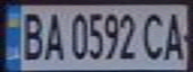0: (66, 9, 87, 61)
2: (118, 9, 142, 61)
5: (84, 9, 106, 61)
9: (103, 9, 121, 61)
A: (160, 8, 190, 62), (39, 9, 66, 62)
B: (15, 8, 48, 62)
C: (139, 9, 169, 61)
